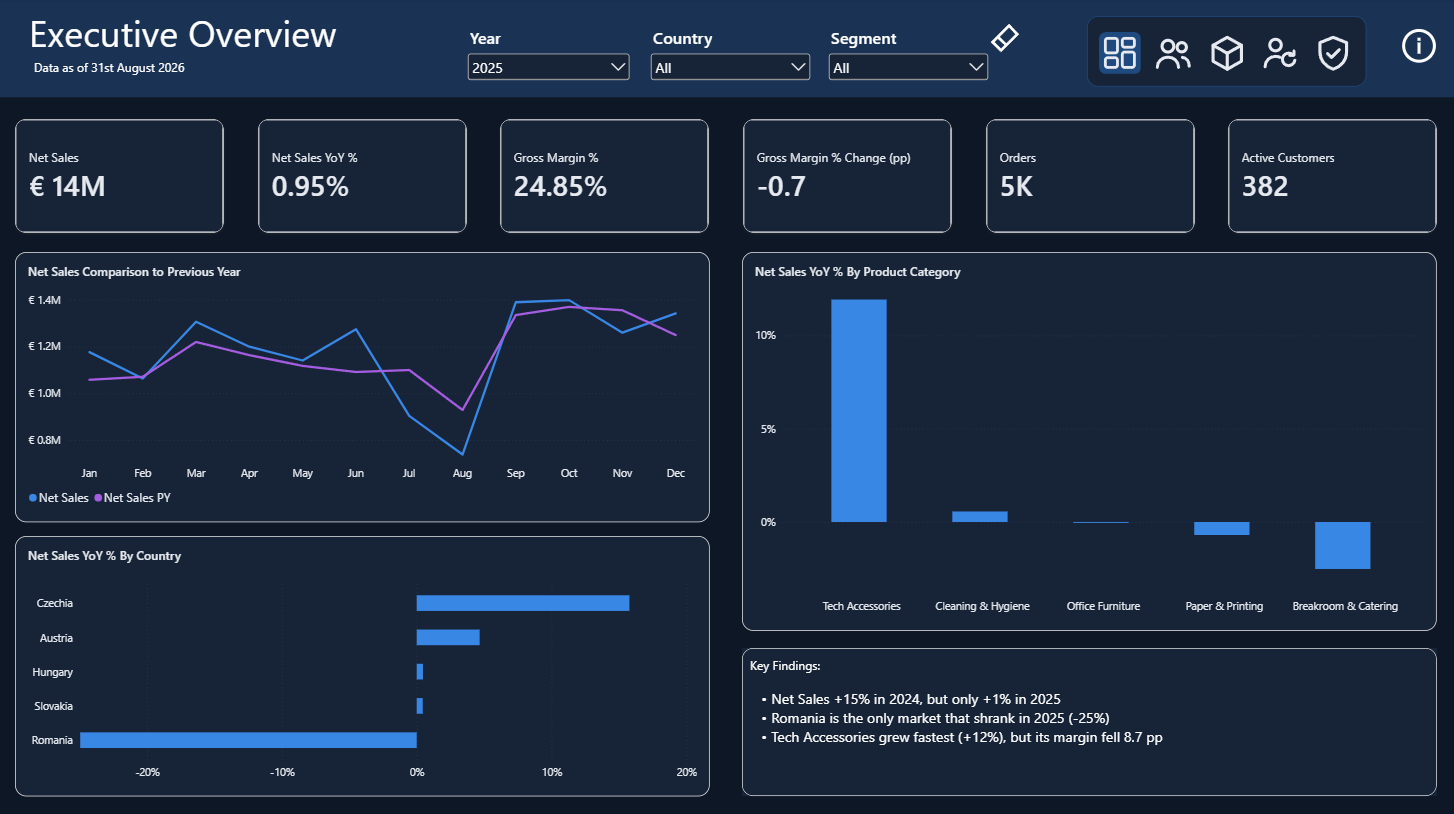

What the dashboard file says about the page in this screenshot:
{"tool":"powerbi","page":{"name":"Page 1 - Executive Overview","canvas":[1920,1080],"ordinal":0},"visuals":[{"type":"shape","box":[0,0,1920,130.5],"z":0},{"type":"shape","box":[977.9,856.3,915.3,194.9],"z":0,"group":"g1"},{"type":"shape","box":[1431.3,23.7,368.3,93],"z":1000},{"type":"textbox","box":[988.8,868.2,879.7,162.4],"z":1000,"group":"g1"},{"type":"actionButton","box":[1839.6,28.6,57.2,67.9],"z":2000},{"type":"cardVisual","fields":{"Data":["_Measures.Net Sales"]},"box":[20,160,275,150.2],"z":4000},{"type":"cardVisual","fields":{"Data":["_Measures.Net Sales YoY %"]},"box":[339.6,160,275,150],"z":5000},{"type":"cardVisual","fields":{"Data":["_Measures.Gross Margin %"]},"box":[659.2,160,275,150],"z":6000},{"type":"cardVisual","fields":{"Data":["_Measures.Gross Margin % Change (pp)"]},"box":[978.7,160,275,150],"z":7000},{"type":"cardVisual","fields":{"Data":["_Measures.Orders"]},"box":[1298.3,160,275,150],"z":8000},{"type":"cardVisual","fields":{"Data":["_Measures.Active Customers"]},"box":[1617.9,160,275,150],"z":9000},{"type":"lineChart","title":"Net Sales Comparison to Previous Year","fields":{"Category":["Date.month_short"],"Y":["_Measures.Net Sales","_Measures.Net Sales PY"]},"box":[19.7,334.3,915.3,355.8],"z":10000},{"type":"clusteredBarChart","title":"Net Sales YoY % By Country","fields":{"Category":["Customer.country"],"Y":["_Measures.Net Sales YoY %"]},"box":[19.7,707.9,915.3,343.2],"z":11000},{"type":"columnChart","title":"Net Sales YoY % By Product Category","fields":{"Category":["Product.category"],"Y":["_Measures.Net Sales YoY %"]},"box":[977.9,334.3,915.3,498.8],"z":12000},{"type":"textbox","box":[37.5,12.5,488,118],"z":13000},{"type":"textbox","box":[45,80.4,232.9,48.8],"z":14000},{"type":"actionButton","box":[1447.9,44.3,55.4,55.4],"z":16000},{"type":"actionButton","box":[1517.9,44.3,56,56],"z":17000},{"type":"actionButton","box":[1587.9,45.2,56,56],"z":18000},{"type":"actionButton","box":[1657.9,45.2,55.4,55.4],"z":19000},{"type":"actionButton","box":[1727.9,45.2,56,56],"z":20000},{"type":"slicer","fields":{"Values":["Date.year"]},"box":[611.4,37.5,223.5,85.8],"z":21000},{"type":"slicer","fields":{"Values":["Customer.country"]},"box":[852.7,37.5,219.9,85.8],"z":22000},{"type":"slicer","fields":{"Values":["Customer.segment"]},"box":[1086.9,37.5,219.9,85.8],"z":23000},{"type":"actionButton","box":[1294.3,28.6,57.2,48.3],"z":24000},{"type":"group","id":"g1","title":"Group 1","box":[977.9,856.3,915.3,194.9],"z":25000}]}

Visuals, with their boxes in screenshot pixels (x1, y1, x2, y2), scaled from the page's 1920x1080 canvas onto the 1454x814 screenshot:
shape: locate(0, 0, 1453, 98)
shape: locate(741, 645, 1434, 792)
shape: locate(1084, 18, 1363, 88)
textbox: locate(749, 654, 1415, 777)
actionButton: locate(1393, 22, 1436, 73)
cardVisual - _Measures.Net Sales: locate(15, 121, 223, 234)
cardVisual - _Measures.Net Sales YoY %: locate(257, 121, 465, 234)
cardVisual - _Measures.Gross Margin %: locate(499, 121, 707, 234)
cardVisual - _Measures.Gross Margin % Change (pp): locate(741, 121, 949, 234)
cardVisual - _Measures.Orders: locate(983, 121, 1191, 234)
cardVisual - _Measures.Active Customers: locate(1225, 121, 1433, 234)
"Net Sales Comparison to Previous Year" lineChart: locate(15, 252, 708, 520)
"Net Sales YoY % By Country" clusteredBarChart: locate(15, 534, 708, 792)
"Net Sales YoY % By Product Category" columnChart: locate(741, 252, 1434, 628)
textbox: locate(28, 9, 398, 98)
textbox: locate(34, 61, 210, 97)
actionButton: locate(1096, 33, 1138, 75)
actionButton: locate(1149, 33, 1192, 76)
actionButton: locate(1203, 34, 1245, 76)
actionButton: locate(1256, 34, 1297, 76)
actionButton: locate(1309, 34, 1351, 76)
slicer - Date.year: locate(463, 28, 632, 93)
slicer - Customer.country: locate(646, 28, 812, 93)
slicer - Customer.segment: locate(823, 28, 990, 93)
actionButton: locate(980, 22, 1023, 58)
"Group 1" group: locate(741, 645, 1434, 792)
